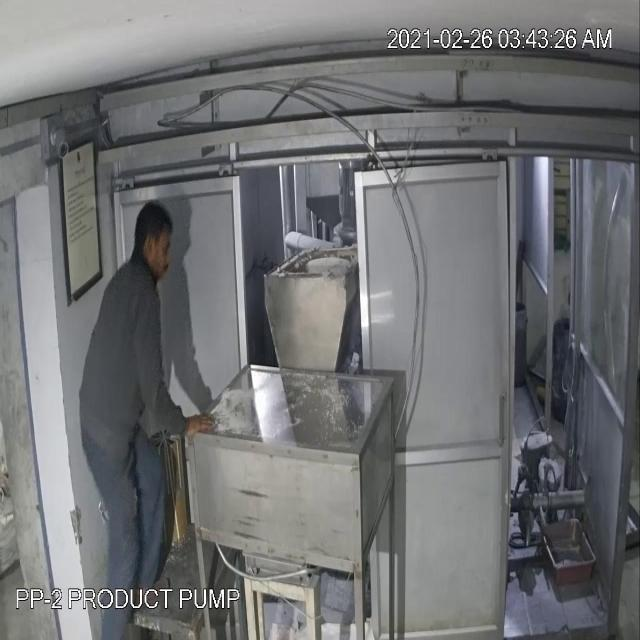no-helmet: (127, 195, 173, 284)
